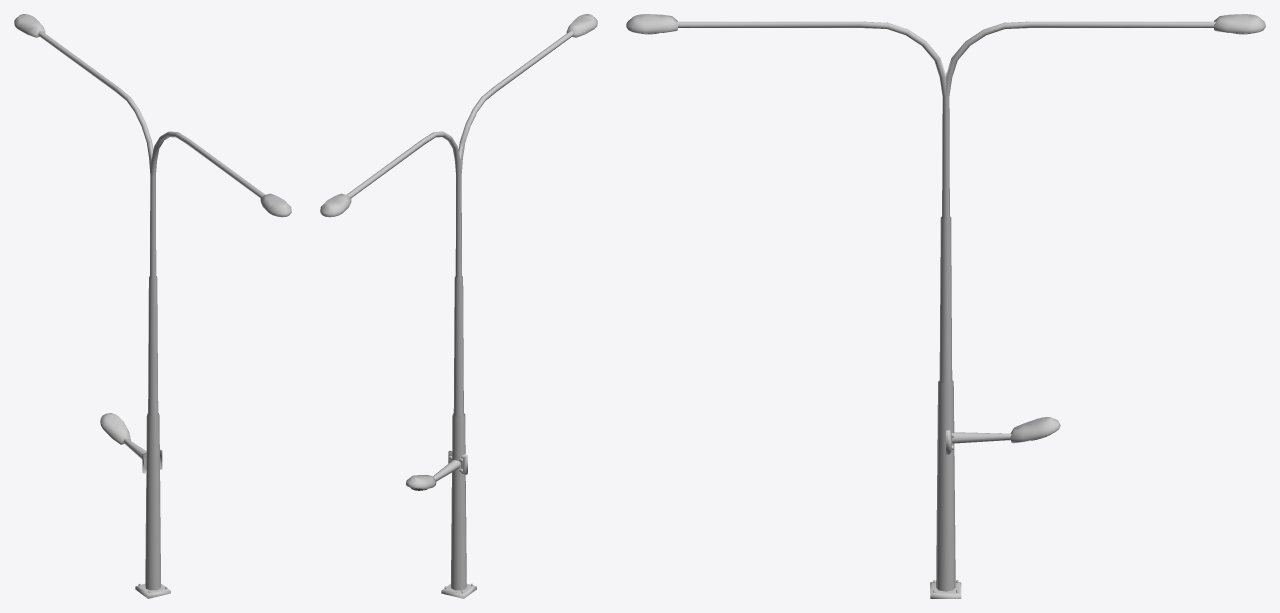
The model's file is street_lights_01a.fbx.
3 renders of one model, left to right at view 1: azimuth 30°, elevation 25°; view 2: azimuth 150°, elevation 25°; view 3: azimuth 270°, elevation 25°, orthographic. The views are drawn at different scales.
Visible parts, largest first — view 1: Mesh, Mesh_ncl1_1, Mesh_ncl1_2; view 2: Mesh_ncl1_1, Mesh, Mesh_ncl1_2; view 3: Mesh, Mesh_ncl1_1, Mesh_ncl1_2.
Boxes of the visible parts, x1,y1,x2,y2 form: Mesh: (17, 14, 291, 598); Mesh_ncl1_1: (14, 14, 167, 595); Mesh_ncl1_2: (100, 413, 162, 473); Mesh_ncl1_1: (320, 135, 476, 598); Mesh: (325, 14, 597, 598); Mesh_ncl1_2: (406, 451, 467, 490); Mesh: (626, 14, 1258, 598); Mesh_ncl1_1: (930, 14, 1265, 598); Mesh_ncl1_2: (946, 417, 1060, 454).
Bounding box in the file's own units: 45 × 914 × 921.
